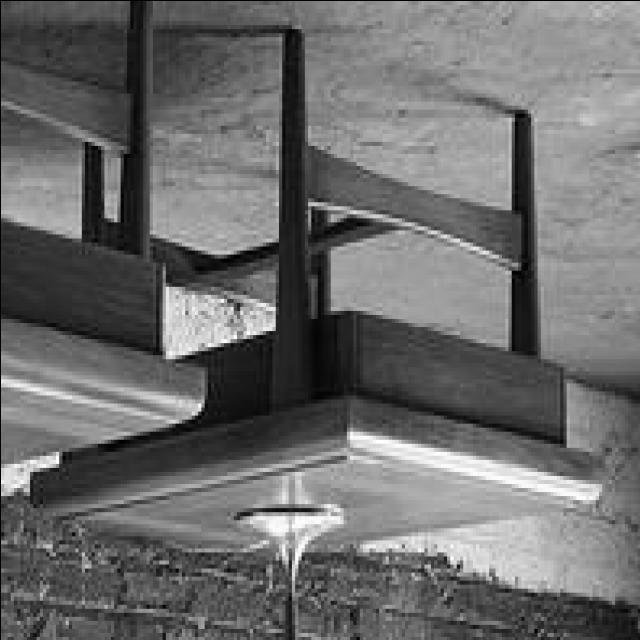table: (20, 25, 606, 552)
